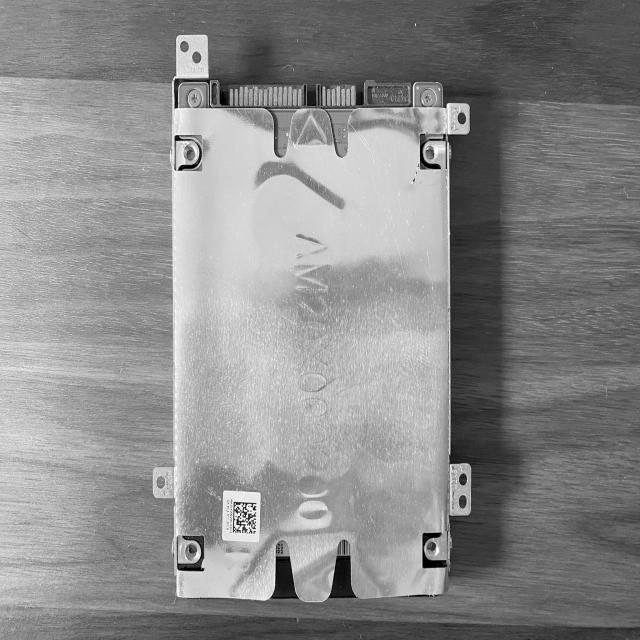PhillipsScrewHead: (187, 89, 202, 108), (421, 89, 436, 108)
